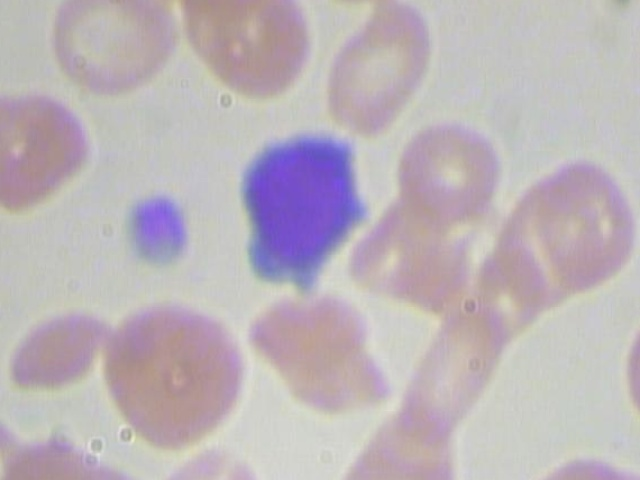Platelets: (110, 186, 196, 283)
RBC: (100, 295, 251, 454), (315, 0, 437, 136), (42, 0, 185, 111), (391, 119, 502, 233), (0, 92, 93, 215), (5, 300, 104, 395)
WBC: (235, 114, 365, 297)
